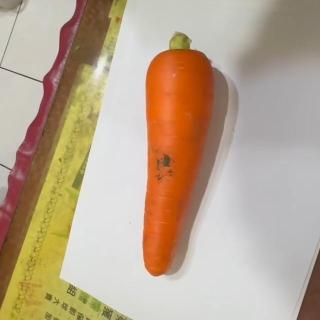carrot: (142, 31, 214, 275)
